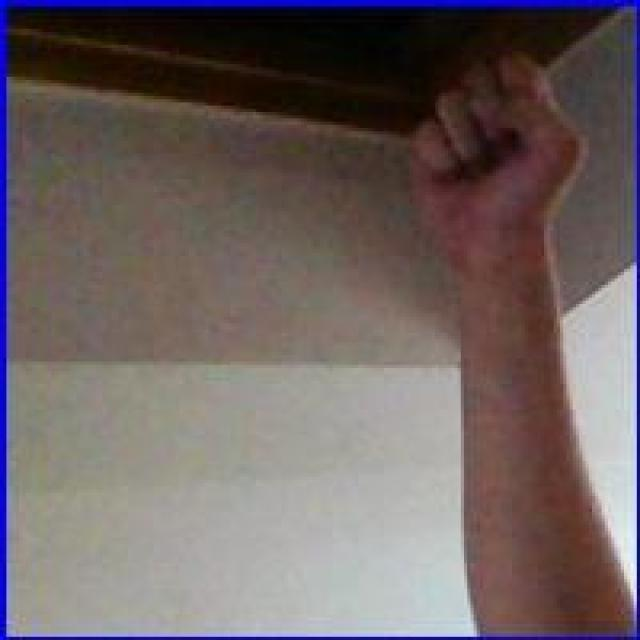S: (398, 42, 590, 250)
